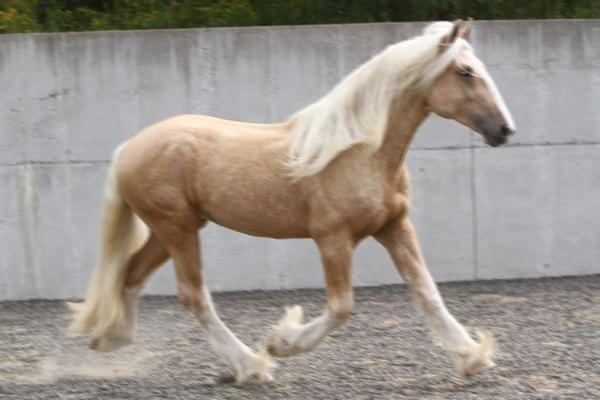horse: (64, 16, 516, 386)
